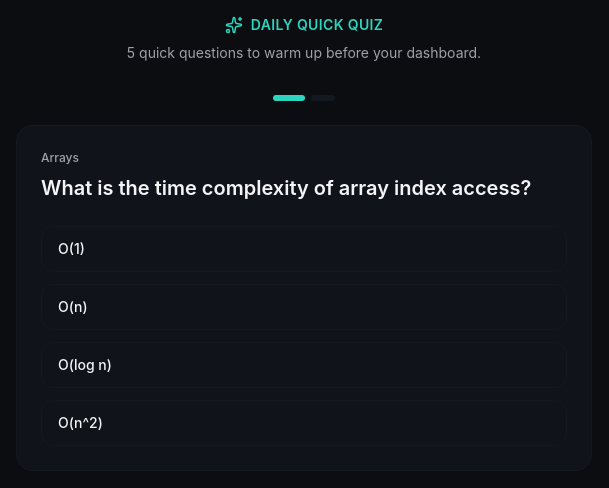
DailyQuickQuiz › advances to the next question after answering, once the feedback delay elapses
Click the button "O(1)": x=71, y=248 [41,226,567,272]
Wait 1000 ms
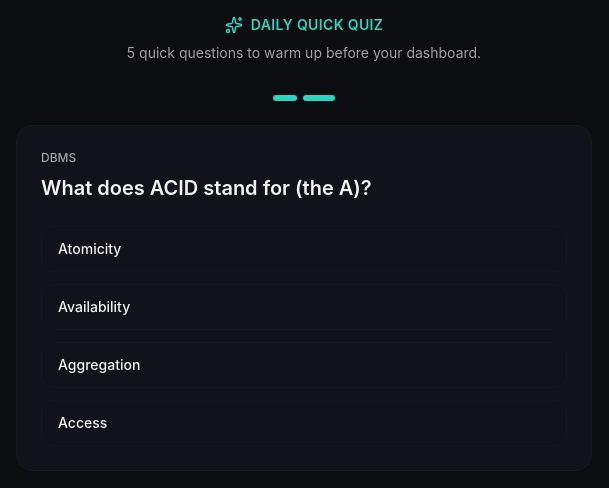
Result: the text "DBMS" is shown at [41,150,76,165]
Result: the heading "What does ACID stand for (the A)?" is shown at [41,176,372,200]
